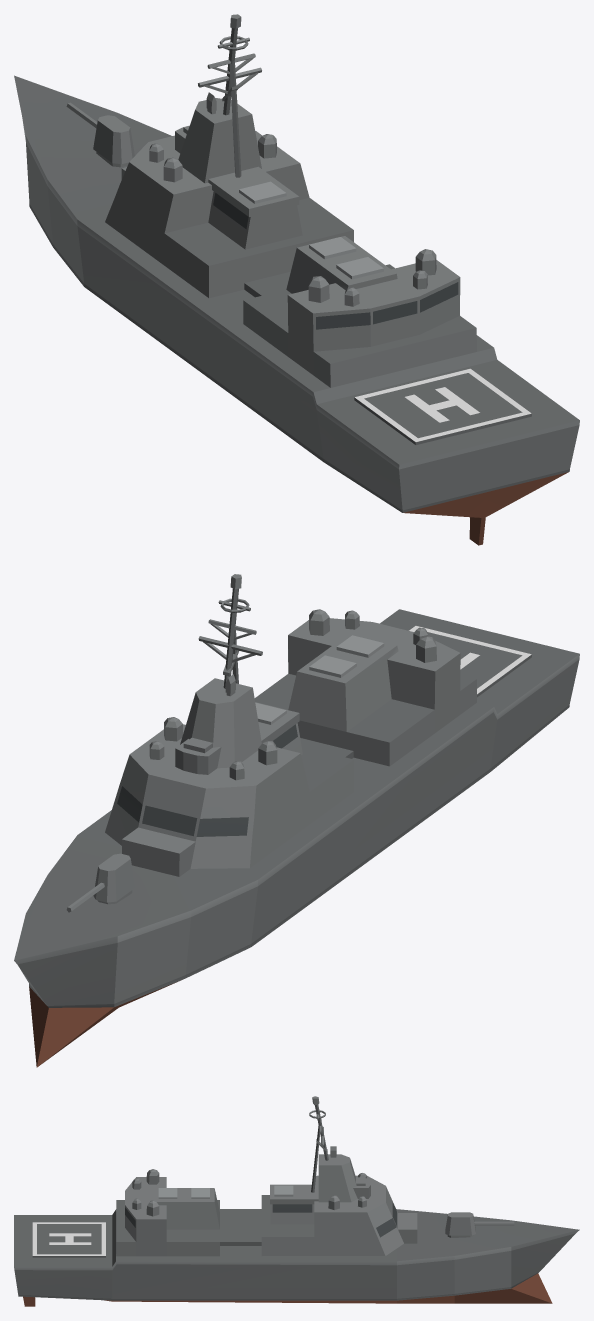
The model's file is Эсминец (2 юнита).fbx.
3 renders of one model, top to bottom at view 1: azimuth 30°, elevation 25°; view 2: azimuth 150°, elevation 25°; view 3: azimuth 270°, elevation 25°, orthographic. The views are drawn at different scales.
Parts seen in each view (by area): view 1: Эсминец; view 2: Эсминец; view 3: Эсминец.
Part boxes in pixels (box(x1,y1,x2,y2)): Эсминец: box(14, 14, 579, 545); Эсминец: box(14, 574, 579, 1067); Эсминец: box(14, 1096, 579, 1306).
Bounding box in the file's own units: 0.9113 × 1.69 × 4.16.
